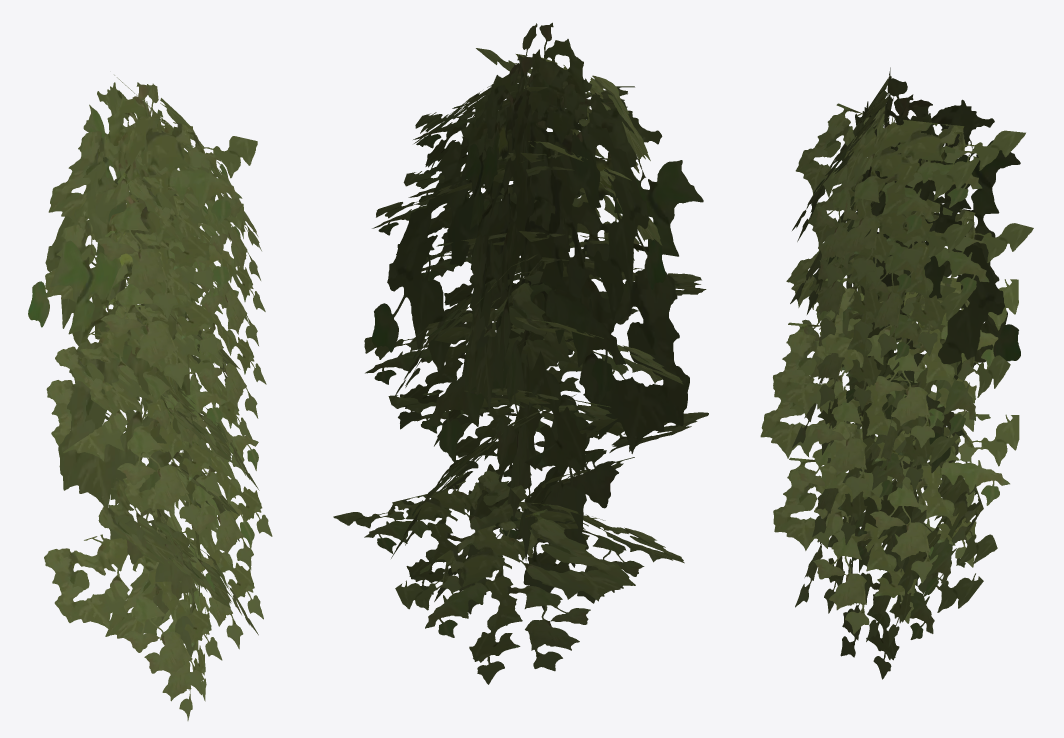
3 renders of one model, left to right at view 1: azimuth 30°, elevation 25°; view 2: azimuth 150°, elevation 25°; view 3: azimuth 270°, elevation 25°, orthographic. The views are drawn at different scales.
Visible parts, largest first — view 1: body0_model0_lod0_mesh0; view 2: body0_model0_lod0_mesh0; view 3: body0_model0_lod0_mesh0.
Boxes of the visible parts, left/top/right/bottom form: body0_model0_lod0_mesh0: left=28, top=75, right=272, bottom=720; body0_model0_lod0_mesh0: left=333, top=22, right=708, bottom=684; body0_model0_lod0_mesh0: left=760, top=67, right=1033, bottom=679.
Size of the model in its own units: 55.66 by 124 by 53.8.
Materials: 1 (1 with a texture image).
